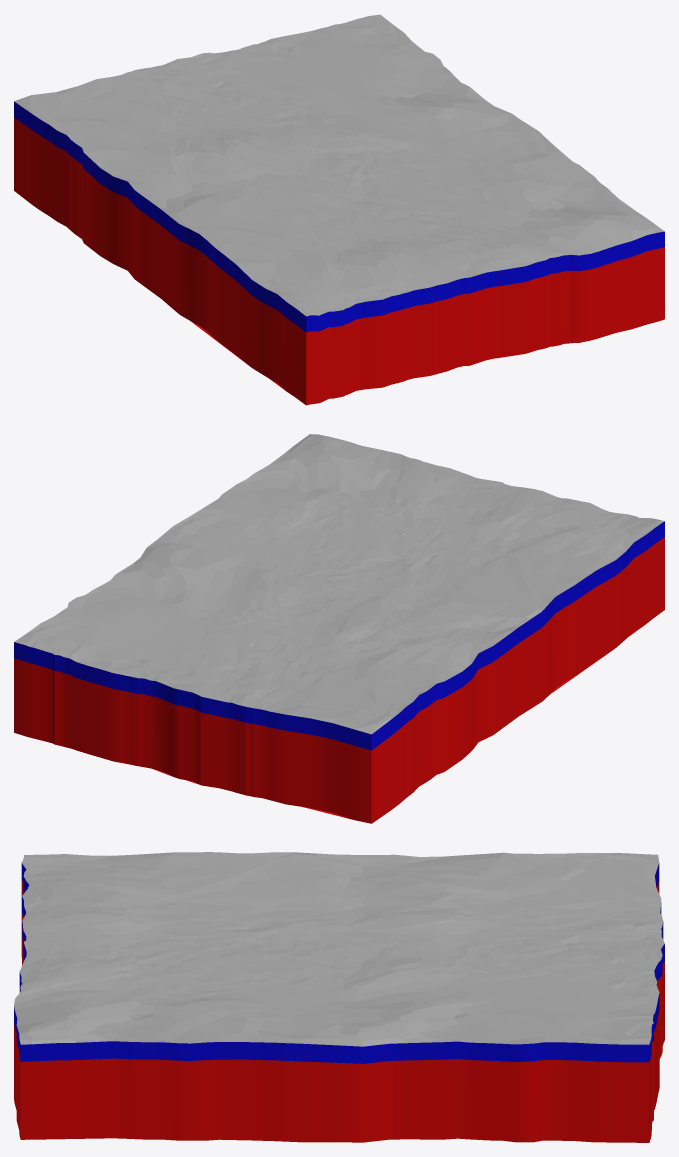
File: ground_ocean_B_seamless_4K_thick.fbx
3 views of the same model, one above another, from view 1: azimuth 30°, elevation 25°; view 2: azimuth 150°, elevation 25°; view 3: azimuth 270°, elevation 25° (orthographic). The views are drawn at different scales.
Parts seen in each view (by area): view 1: ground_ocean_B_seamless_4K_thick; view 2: ground_ocean_B_seamless_4K_thick; view 3: ground_ocean_B_seamless_4K_thick.
Boxes of the visible parts, left/top/right/bottom form: ground_ocean_B_seamless_4K_thick: left=14, top=14, right=664, bottom=405; ground_ocean_B_seamless_4K_thick: left=14, top=434, right=664, bottom=823; ground_ocean_B_seamless_4K_thick: left=14, top=852, right=664, bottom=1142.
Bounding box in the file's own units: 6027 × 1478 × 8596.
